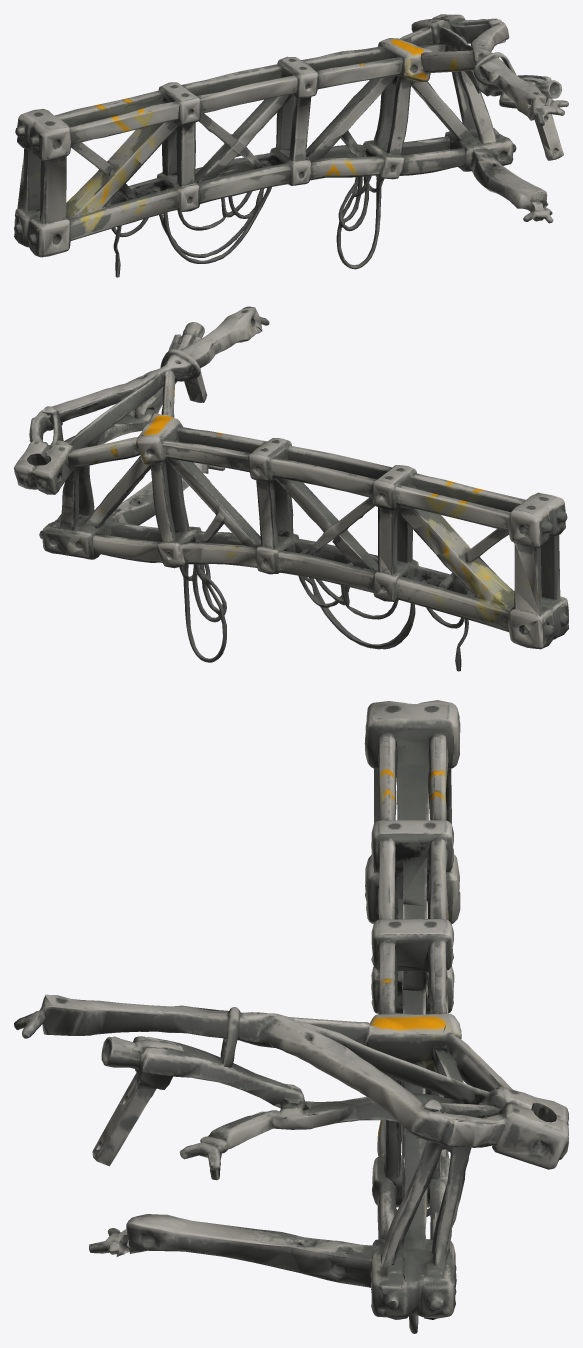
File: 02_truss_long_bent.fbx
3 renders of one model, top to bottom at view 1: azimuth 30°, elevation 25°; view 2: azimuth 150°, elevation 25°; view 3: azimuth 270°, elevation 25°, orthographic. The views are drawn at different scales.
Visible parts, largest first — view 1: 02_truss_long_bent; view 2: 02_truss_long_bent; view 3: 02_truss_long_bent.
Boxes of the visible parts, x1=… form: 02_truss_long_bent: x1=14, y1=14, x2=568, y2=277; 02_truss_long_bent: x1=14, y1=306, x2=568, y2=671; 02_truss_long_bent: x1=14, y1=700, x2=568, y2=1333.
Bounding box in the file's own units: 8 × 3.72 × 4.8.
1 material, 1 textured.
